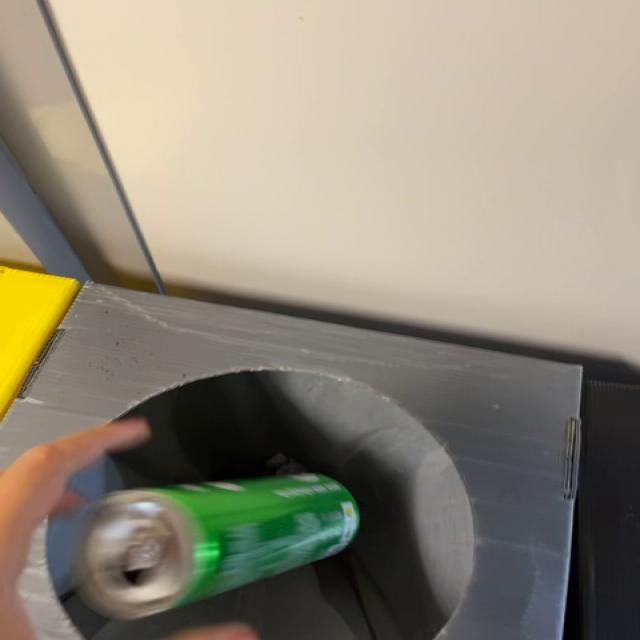bin: (3, 285, 580, 640)
metal: (76, 475, 360, 622)
